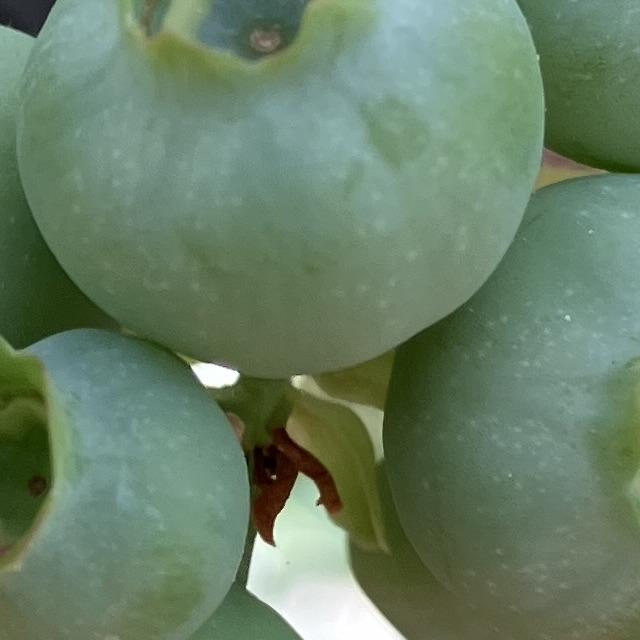Blueberries: (9, 0, 560, 379), (389, 169, 640, 640), (0, 306, 256, 640)
